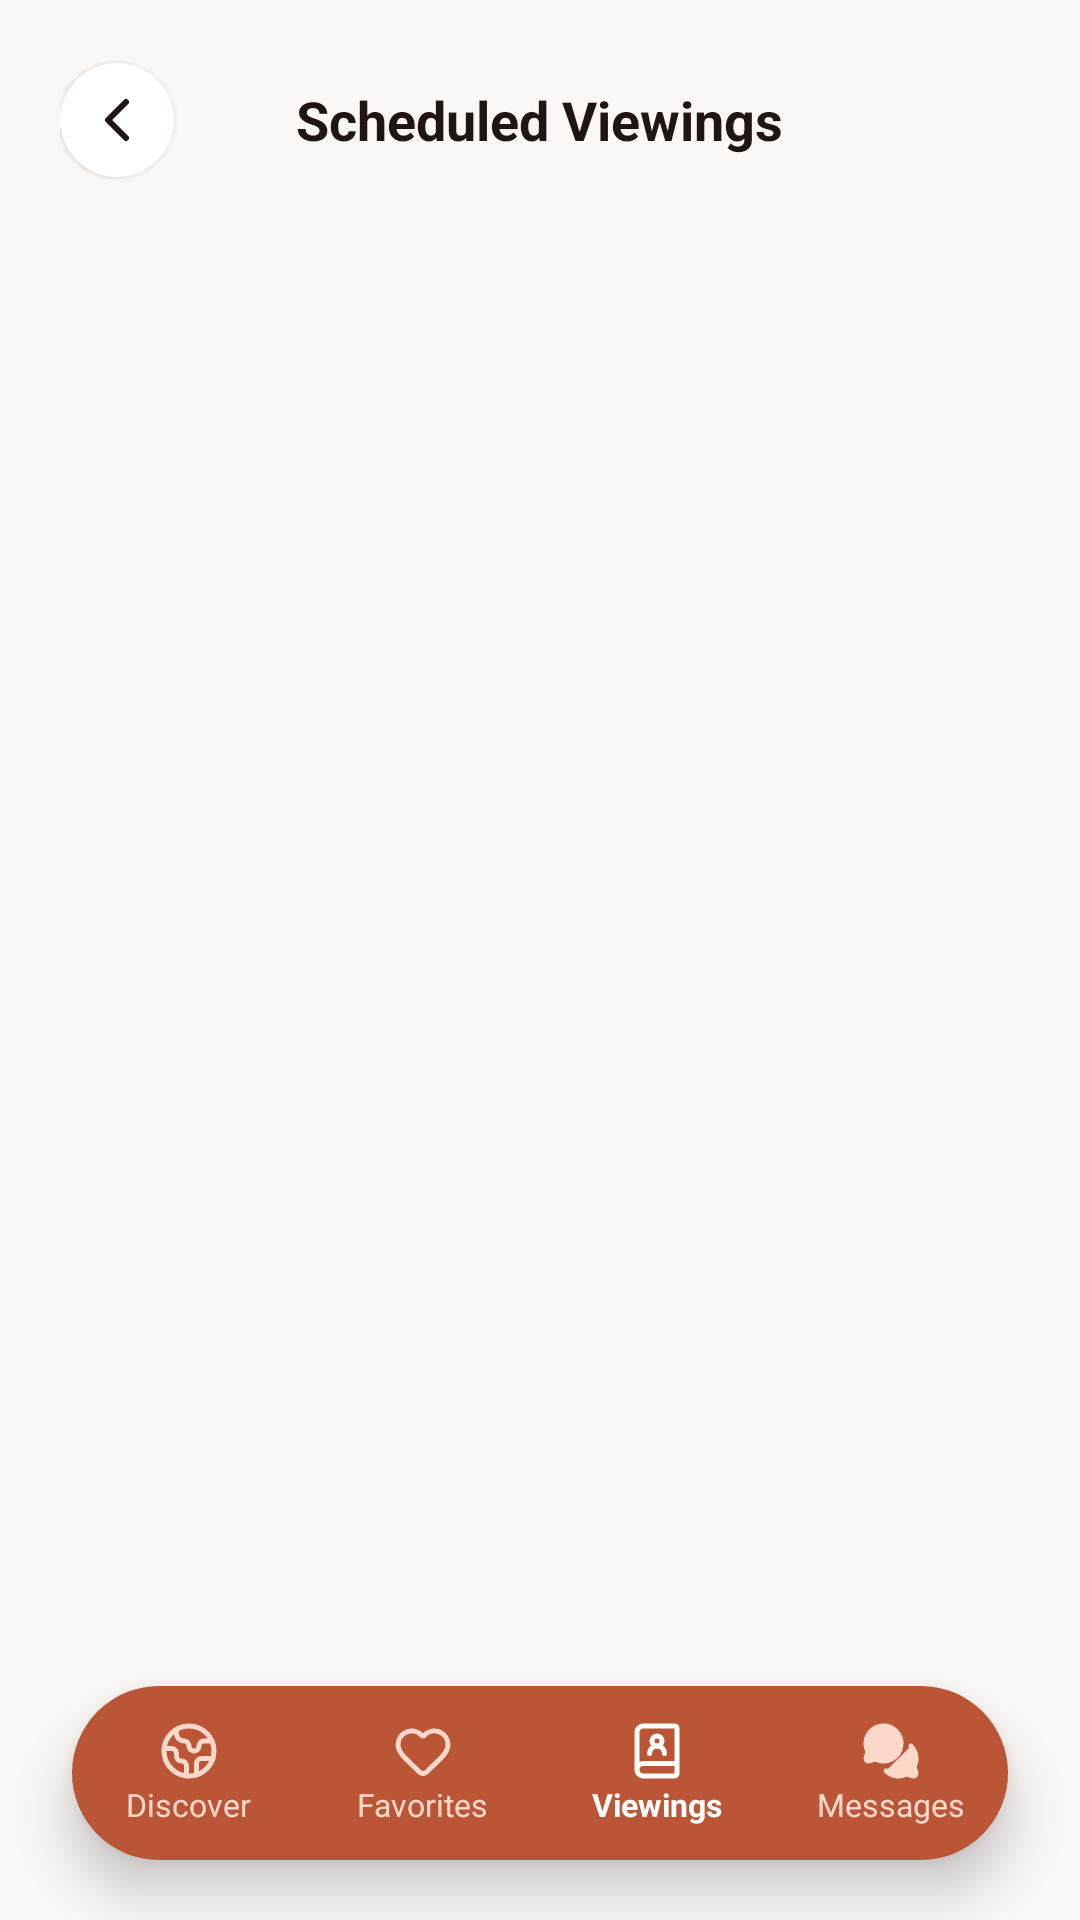

Where to tap for icons on this 1080 x 1920 app screen, as point (x, y):
Navigate Back: point (117, 120)
